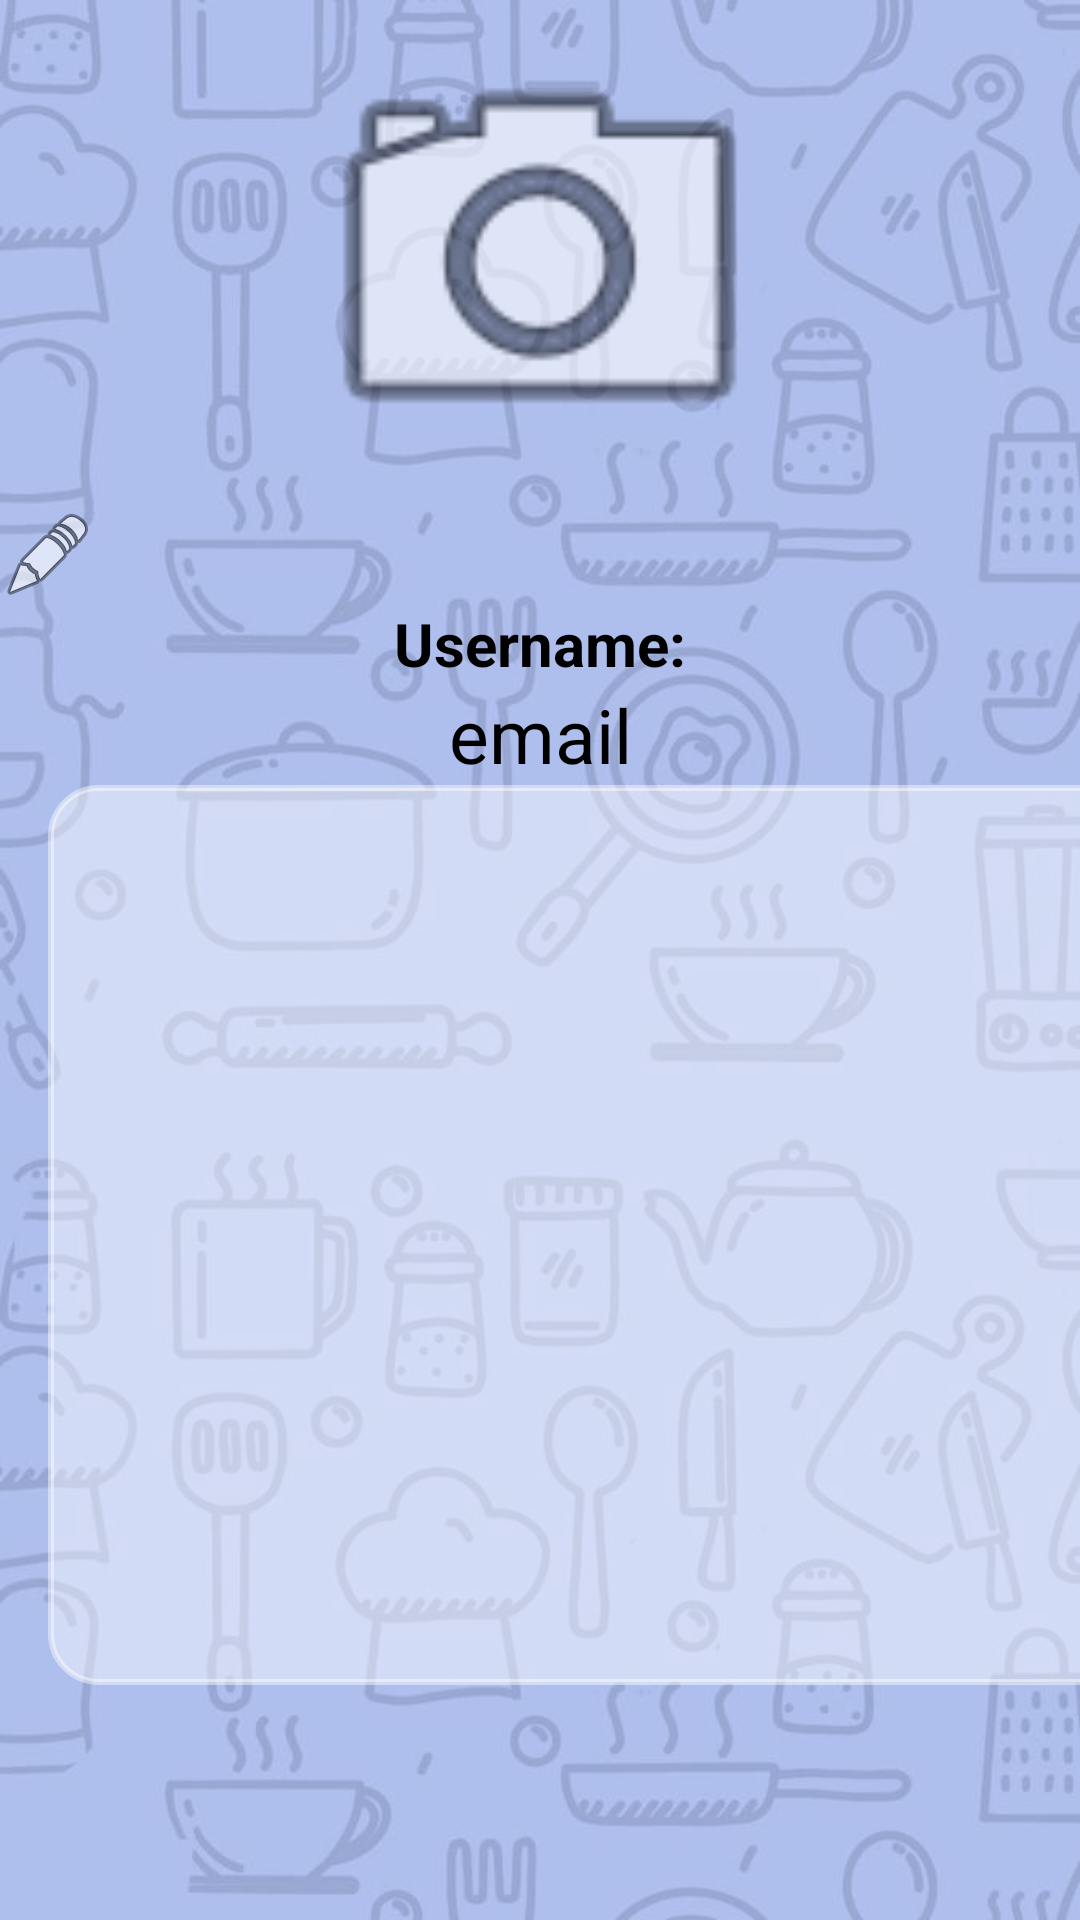

Screen size 1080 × 1920. Icon name, then its center in pixels as (x,y):
edit: (45,555)
